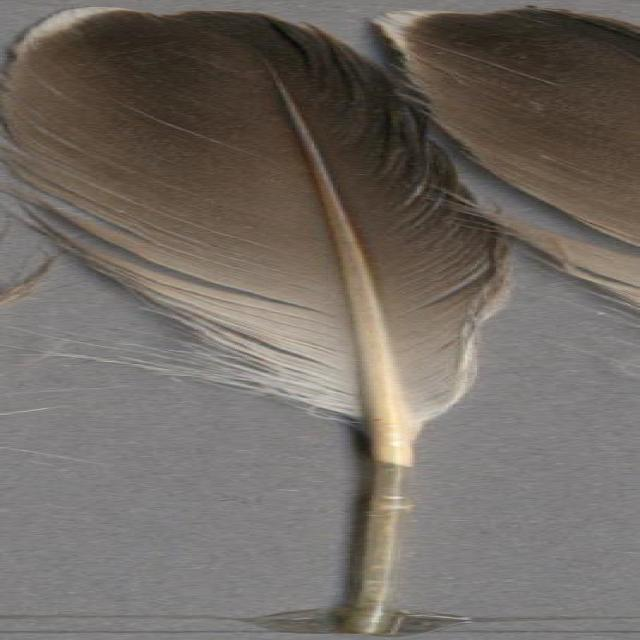feather: (0, 5, 533, 632)
